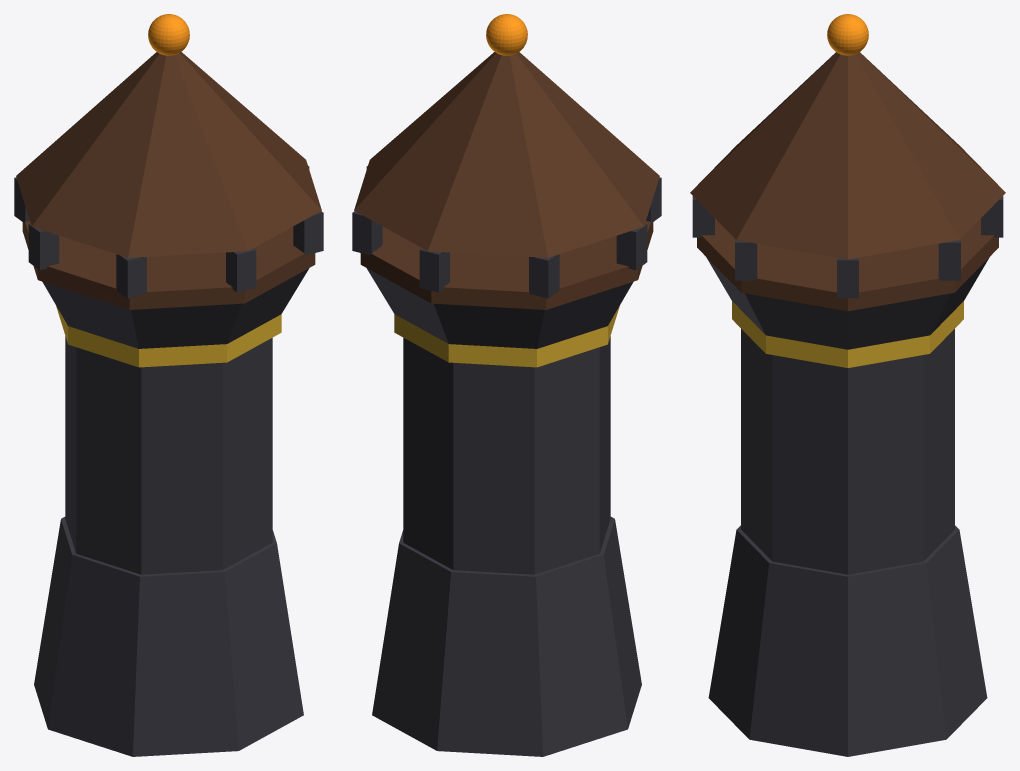
File: monumental_watchtower.obj
3 views of the same model, side by side, from view 1: azimuth 30°, elevation 25°; view 2: azimuth 150°, elevation 25°; view 3: azimuth 270°, elevation 25° (orthographic).
Visible parts, largest first — view 1: Tower_TalusBase, Tower_MidShaft, Tower_RoofSpire, Tower_Platform, Tower_Corbel, Tower_BeltCourse, Tower_BeaconOrb, Cube.005, Cube.006, Cube.004, Cube.007; view 2: Tower_TalusBase, Tower_MidShaft, Tower_RoofSpire, Tower_Platform, Tower_Corbel, Tower_BeltCourse, Tower_BeaconOrb, Cube.003, Cube.002, Cube.004, Cube.001; view 3: Tower_TalusBase, Tower_MidShaft, Tower_RoofSpire, Tower_Platform, Tower_Corbel, Tower_BeltCourse, Tower_BeaconOrb, Cube.001, Cube.007, Cube, Cube.002, Cube.006.
Boxes of the visible parts, x1,y1,x2,y2 form: Tower_TalusBase: [34, 517, 303, 756]; Tower_MidShaft: [65, 336, 272, 574]; Tower_RoofSpire: [16, 52, 321, 257]; Tower_Platform: [22, 221, 315, 309]; Tower_Corbel: [42, 268, 309, 348]; Tower_BeltCourse: [56, 306, 281, 367]; Tower_BeaconOrb: [148, 14, 189, 55]; Cube.005: [116, 254, 146, 298]; Cube.006: [226, 248, 256, 292]; Cube.004: [28, 223, 59, 270]; Cube.007: [293, 211, 323, 255]; Tower_TalusBase: [372, 517, 641, 756]; Tower_MidShaft: [403, 336, 610, 574]; Tower_RoofSpire: [354, 52, 659, 257]; Tower_Platform: [360, 221, 653, 309]; Tower_Corbel: [366, 268, 633, 348]; Tower_BeltCourse: [394, 306, 619, 367]; Tower_BeaconOrb: [486, 14, 527, 55]; Cube.003: [529, 254, 559, 298]; Cube.002: [419, 248, 449, 292]; Cube.004: [616, 223, 647, 270]; Cube.001: [352, 211, 382, 255]; Tower_TalusBase: [708, 525, 987, 756]; Tower_MidShaft: [741, 329, 954, 574]; Tower_RoofSpire: [690, 52, 1005, 259]; Tower_Platform: [697, 218, 998, 311]; Tower_Corbel: [706, 257, 989, 349]; Tower_BeltCourse: [732, 301, 963, 367]; Tower_BeaconOrb: [827, 14, 868, 55]; Cube.001: [938, 239, 960, 280]; Cube.007: [735, 239, 757, 280]; Cube: [837, 257, 858, 298]; Cube.002: [981, 196, 1003, 237]; Cube.006: [692, 196, 714, 237].
Size of the model in its own units: 13.6 by 32.4 by 13.6.
